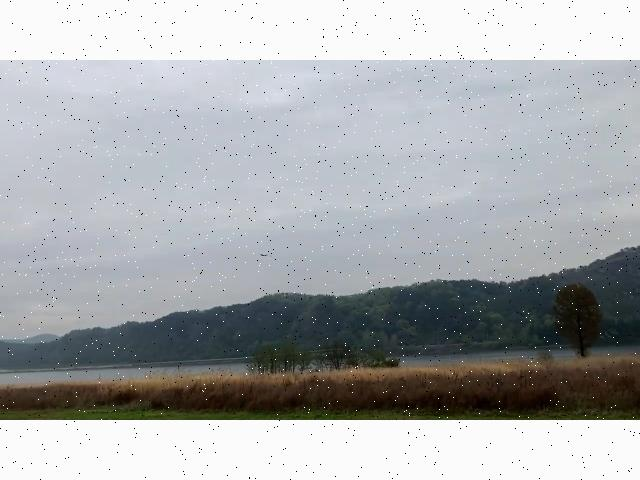Anti-Drone: (250, 249, 276, 263)
